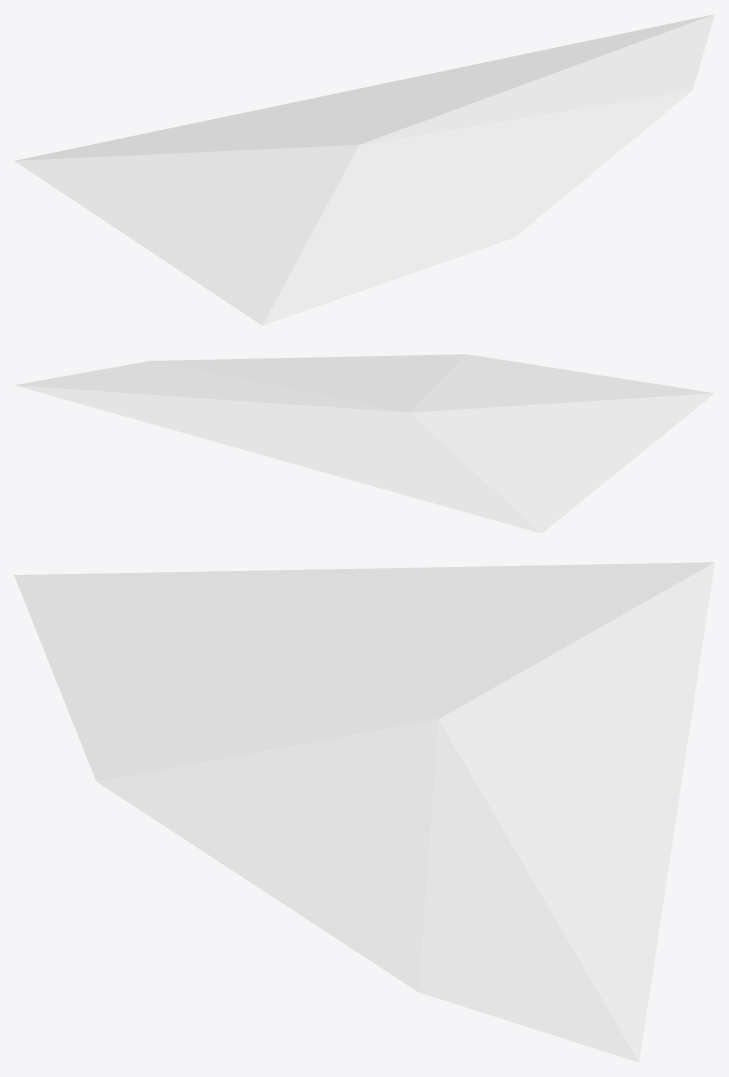
Rendered from SM_Env_Flowers_04.glb.
3 views of the same model, one above another, from view 1: azimuth 30°, elevation 25°; view 2: azimuth 150°, elevation 25°; view 3: azimuth 270°, elevation 25° (orthographic). The views are drawn at different scales.
Parts seen in each view (by area): view 1: SM_Env_Flowers_04; view 2: SM_Env_Flowers_04; view 3: SM_Env_Flowers_04.
Boxes of the visible parts, x1=… form: SM_Env_Flowers_04: x1=14, y1=14, x2=714, y2=325; SM_Env_Flowers_04: x1=15, y1=354, x2=714, y2=533; SM_Env_Flowers_04: x1=14, y1=562, x2=714, y2=1062.
Size of the model in its own units: 0.7997 by 0.0234 by 0.4734.
1 material, 1 textured.
